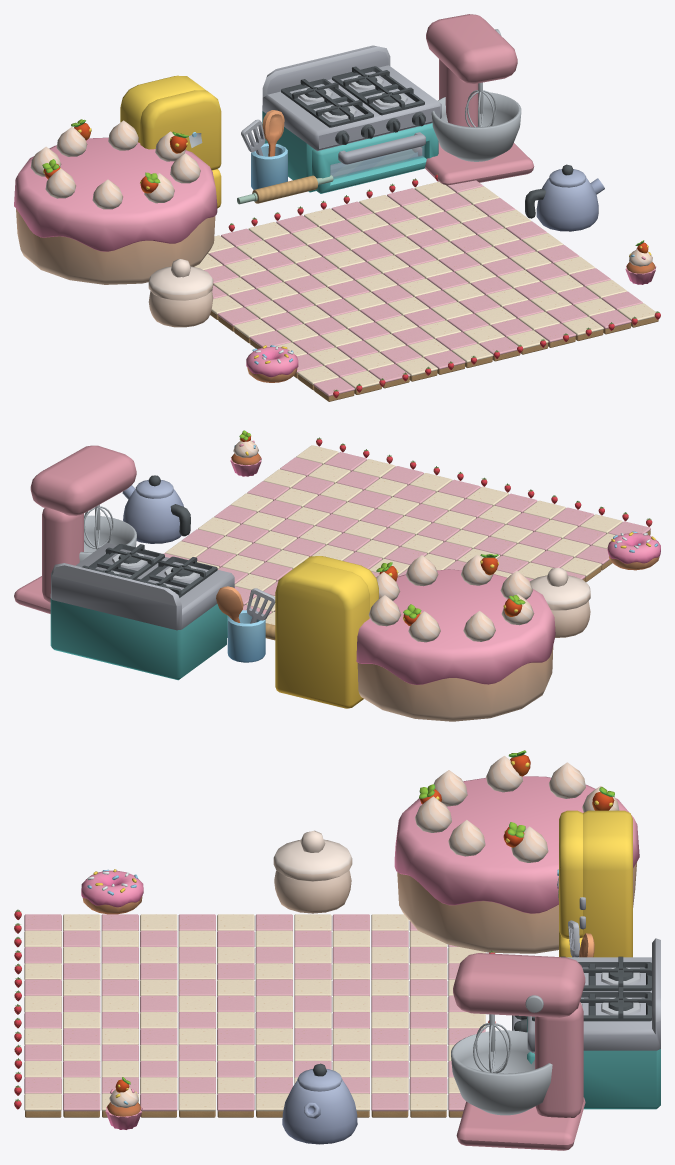
File: kitchen_stage.glb
The picture shows the model from 3 angles, top to bottom: view 1: azimuth 30°, elevation 25°; view 2: azimuth 150°, elevation 25°; view 3: azimuth 270°, elevation 25°; orthographic projection. The views are drawn at different scales.
Visible parts, largest first — view 1: cake_strawberry.001, stove.001, mixer_base.001, stove_door.001, fridge_door_top.001, speed_dial.001, kettle.002, container_kitchen_B_white.001, utensils_cup.001, fridge.001, donut_pink.001, rolling_pin_barrel.001 (+1 smaller); view 2: cake_strawberry.001, stove.001, fridge.001, mixer_base.001, kettle.002, utensils_cup.001, container_kitchen_B_white.001, speed_dial.001, donut_pink.001, cupcake.002, fridge_door_top.001, frosting_surface.071 (+72 smaller); view 3: cake_strawberry.001, mixer_base.001, stove.001, fridge.001, speed_dial.001, container_kitchen_B_white.001, kettle.002, fridge_door_top.001, donut_pink.001, cupcake.002, frosting_surface.025, frosting_surface.037 (+123 smaller).
Part boxes in pixels (x1,y1,x2,y2): cake_strawberry.001: (14, 119, 217, 284); stove.001: (262, 45, 441, 192); mixer_base.001: (412, 14, 534, 185); stove_door.001: (312, 123, 438, 193); fridge_door_top.001: (140, 90, 221, 170); speed_dial.001: (431, 29, 521, 161); kettle.002: (525, 164, 604, 231); container_kitchen_B_white.001: (148, 259, 213, 327); utensils_cup.001: (241, 110, 287, 189); fridge.001: (120, 75, 205, 142); donut_pink.001: (246, 345, 298, 382); rolling_pin_barrel.001: (252, 175, 317, 203); cake_strawberry.001: (356, 554, 555, 721); stove.001: (50, 542, 234, 680); fridge.001: (275, 562, 369, 708); mixer_base.001: (14, 445, 136, 613); kettle.002: (122, 475, 190, 543); utensils_cup.001: (216, 586, 275, 662); container_kitchen_B_white.001: (530, 568, 590, 637); speed_dial.001: (43, 470, 136, 562); donut_pink.001: (607, 531, 660, 570); cupcake.002: (230, 430, 261, 476); fridge_door_top.001: (302, 556, 378, 609); frosting_surface.071: (254, 531, 297, 550); cake_strawberry.001: (394, 750, 639, 953); mixer_base.001: (453, 953, 585, 1150); stove.001: (514, 938, 660, 1109); fridge.001: (579, 810, 632, 957); speed_dial.001: (451, 995, 552, 1115); container_kitchen_B_white.001: (273, 830, 352, 913); kettle.002: (282, 1063, 357, 1144); fridge_door_top.001: (557, 810, 582, 938); donut_pink.001: (81, 869, 143, 914); cupcake.002: (105, 1077, 142, 1129); frosting_surface.025: (409, 1093, 447, 1111); frosting_surface.037: (371, 1093, 408, 1111).
Size of the model in its own units: 17.82 by 4.68 by 16.79.
22 materials, 16 textured.
